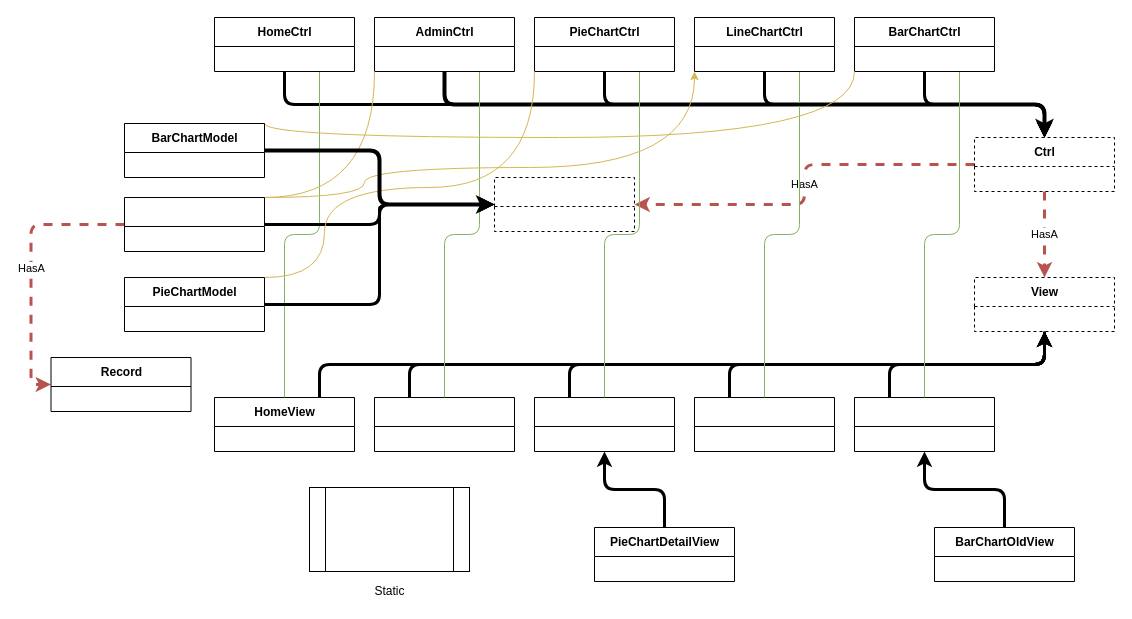
The diagram is 1132 pixels wide and 619 high, and some of its shapes have lost their labels. The centre of each missing label's shape, as x and y in pixels:
"AdminModel" goes at point (194, 224).
"AdminView" goes at point (444, 424).
"BarChartView" goes at point (924, 424).
"JSONFilePicker" goes at point (389, 529).
"LineChartView" goes at point (764, 424).
"Model" goes at point (564, 204).
"PieChartView" goes at point (604, 424).
